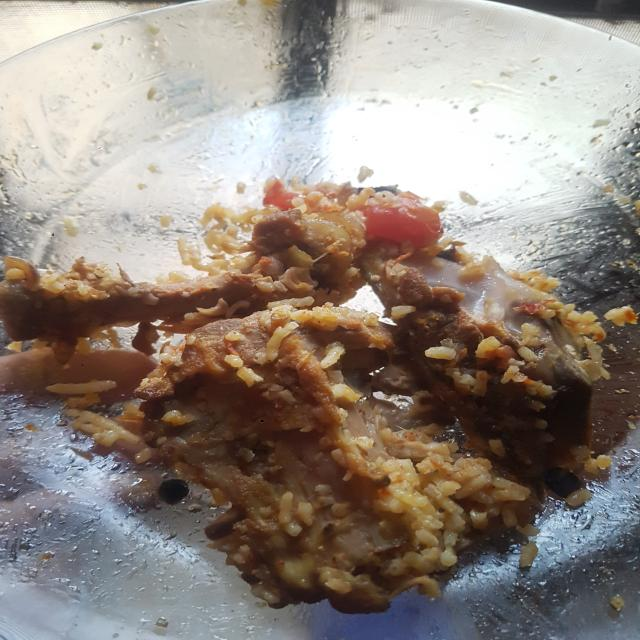paper: (26, 145, 616, 617)
